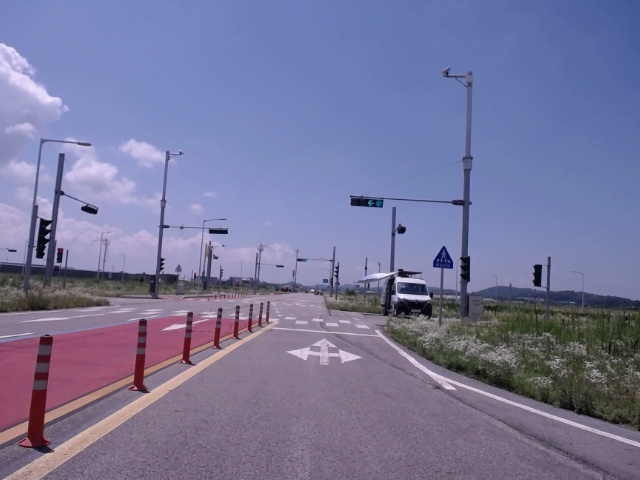all_green_4: (351, 197, 386, 207)
